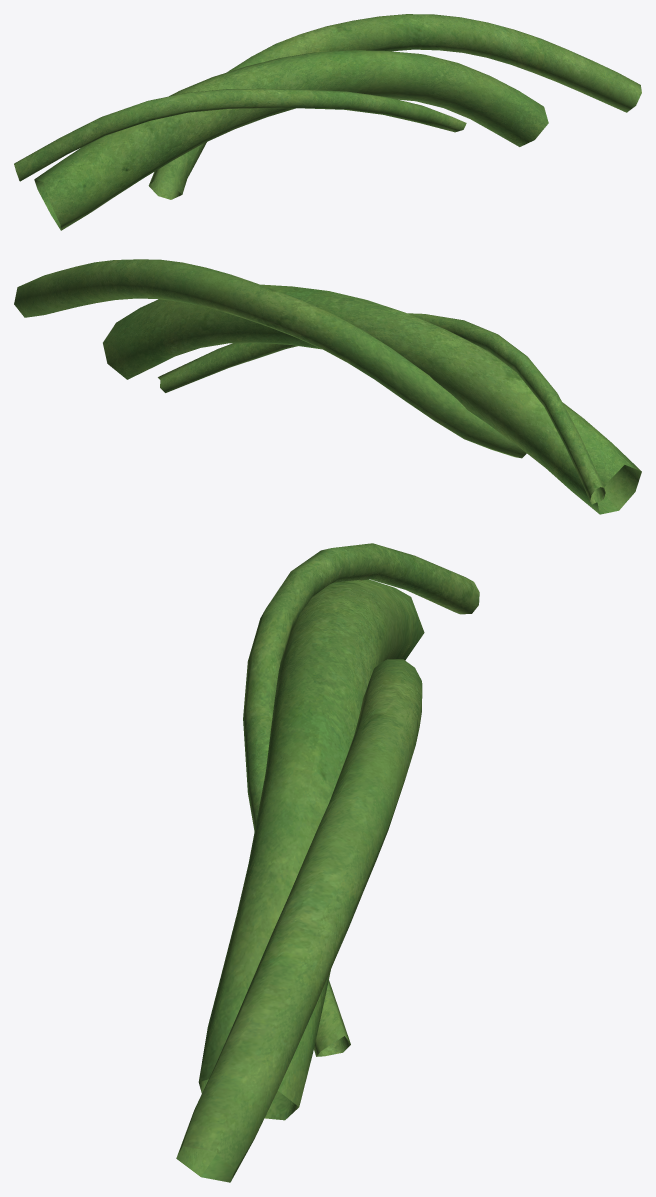
The model's file is SM_ENV_KNFRST_Roots_C.FBX.
3 views of the same model, one above another, from view 1: azimuth 30°, elevation 25°; view 2: azimuth 150°, elevation 25°; view 3: azimuth 270°, elevation 25° (orthographic). The views are drawn at different scales.
Parts seen in each view (by area): view 1: SM_ENV_KNFRST_Roots_C; view 2: SM_ENV_KNFRST_Roots_C; view 3: SM_ENV_KNFRST_Roots_C.
Boxes of the visible parts, x1,y1,x2,y2 form: SM_ENV_KNFRST_Roots_C: [14, 14, 641, 230]; SM_ENV_KNFRST_Roots_C: [14, 259, 641, 514]; SM_ENV_KNFRST_Roots_C: [176, 543, 479, 1182].
Size of the model in its own units: 642 by 143 by 149.
